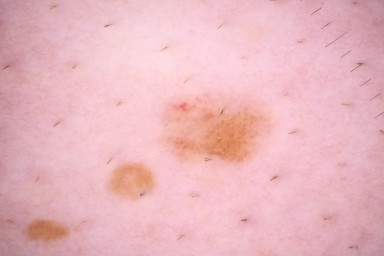nevus: (173, 100, 263, 164), (109, 165, 156, 199), (26, 218, 68, 242)
